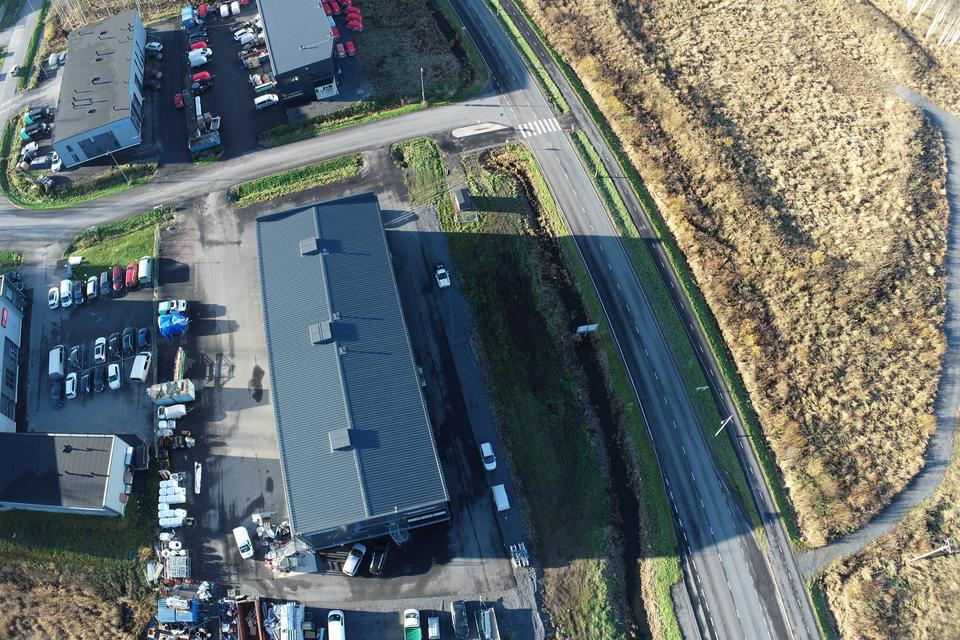intersection: (432, 59, 634, 165), (657, 515, 863, 610)
